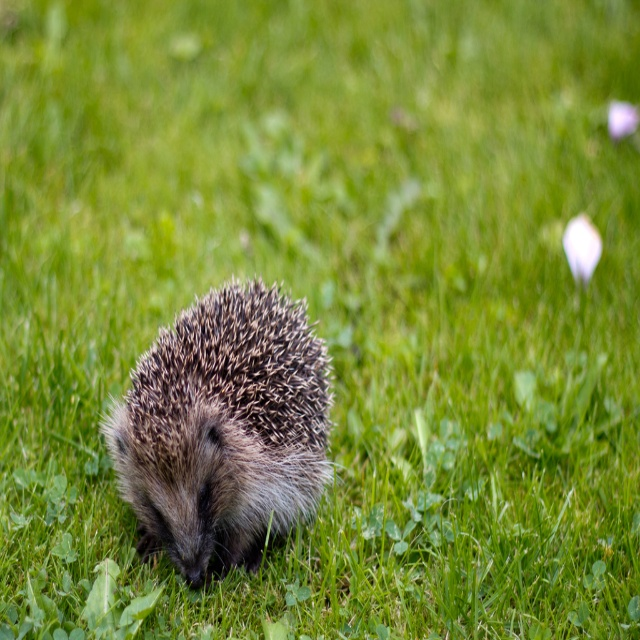Hedgehog: (99, 268, 344, 591)
